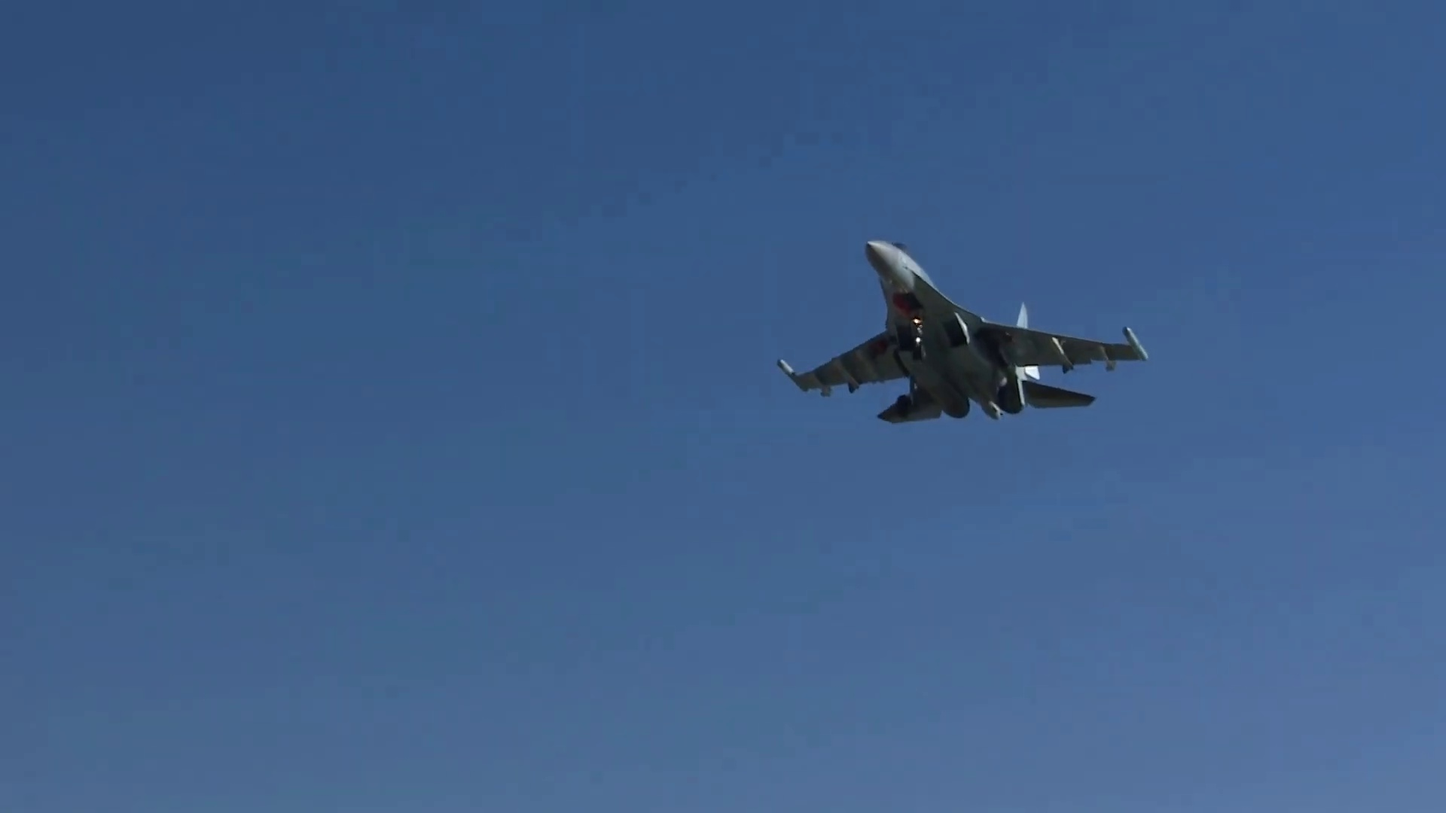Su35: (776, 241, 1149, 423)
